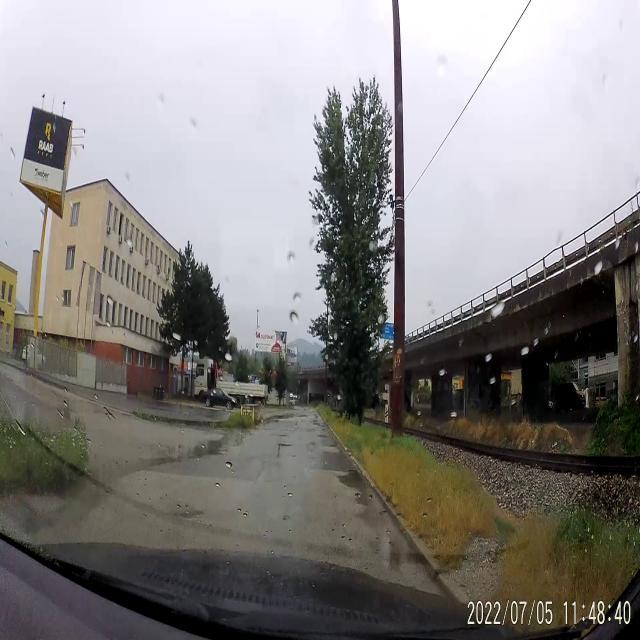Pothole: (332, 461, 367, 495), (278, 440, 292, 456), (312, 417, 326, 427), (325, 442, 338, 449), (317, 431, 328, 439)
